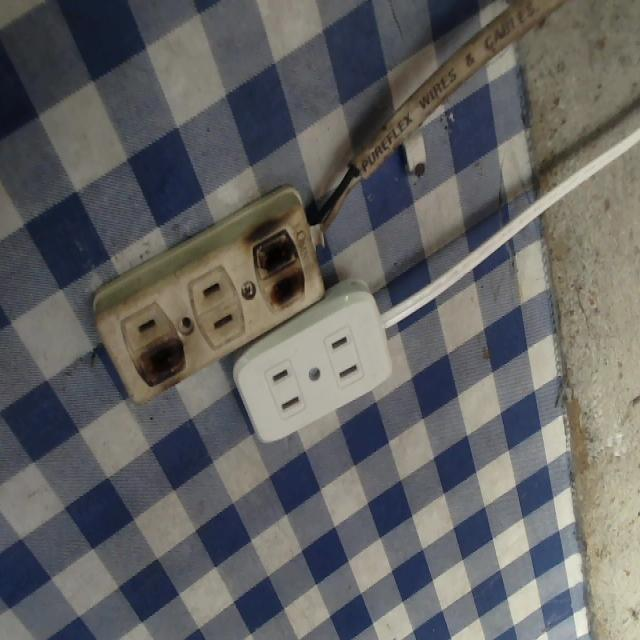-: (245, 221, 309, 315), (129, 335, 189, 393)
